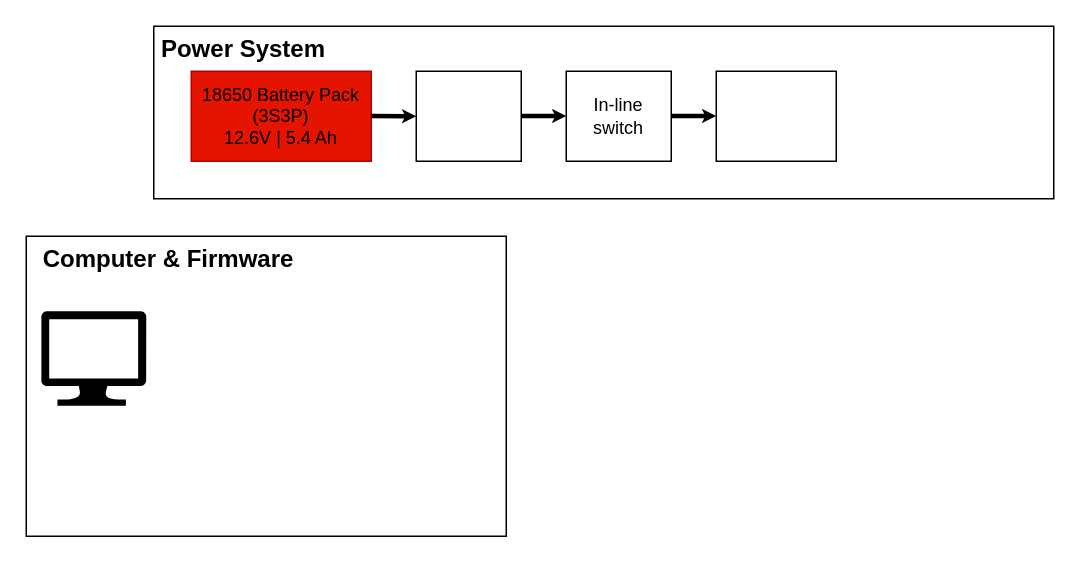
The diagram is 1080 pixels wide and 563 high, and some of its shapes have lost their labels. Here are the shapes that lost their labels. From the top down, the centre of each, then its label:
At pixel 468 115: "BMS".
At pixel 775 115: "7.5 A Fuse".
